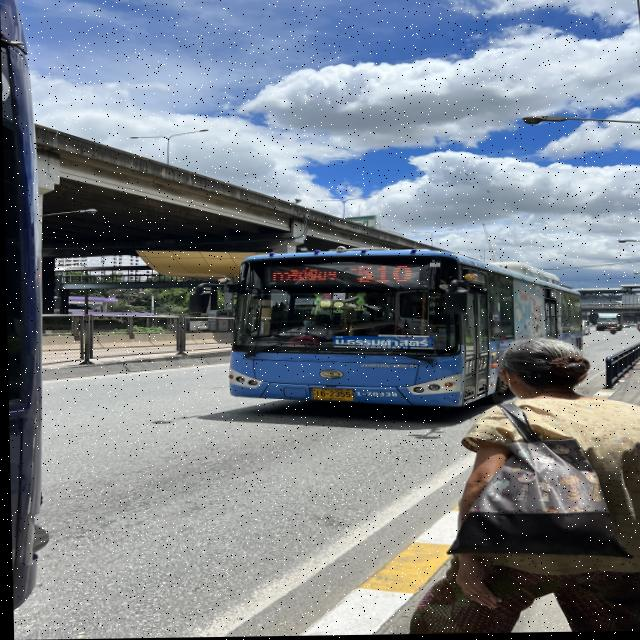BMTA-bus: (226, 250, 582, 412)
Bus Line Number: (350, 264, 416, 286)
Bus Side Number: (350, 390, 400, 401)
Destination Sign: (325, 334, 434, 356)
